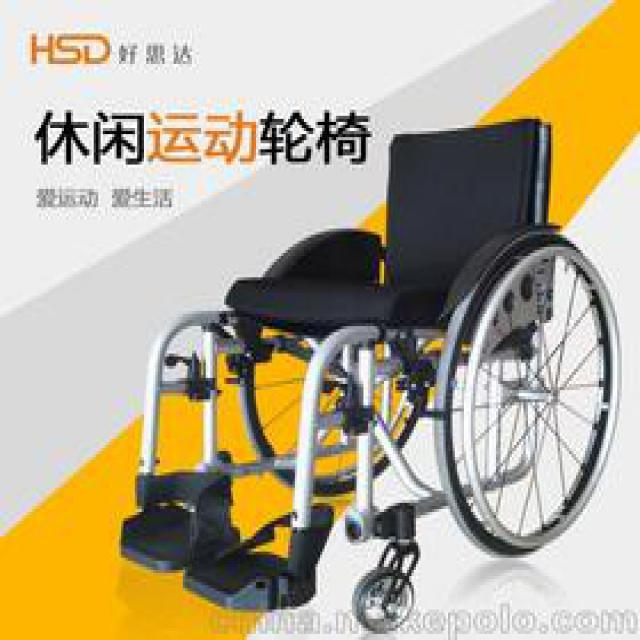wheelchair: (112, 110, 615, 637)
